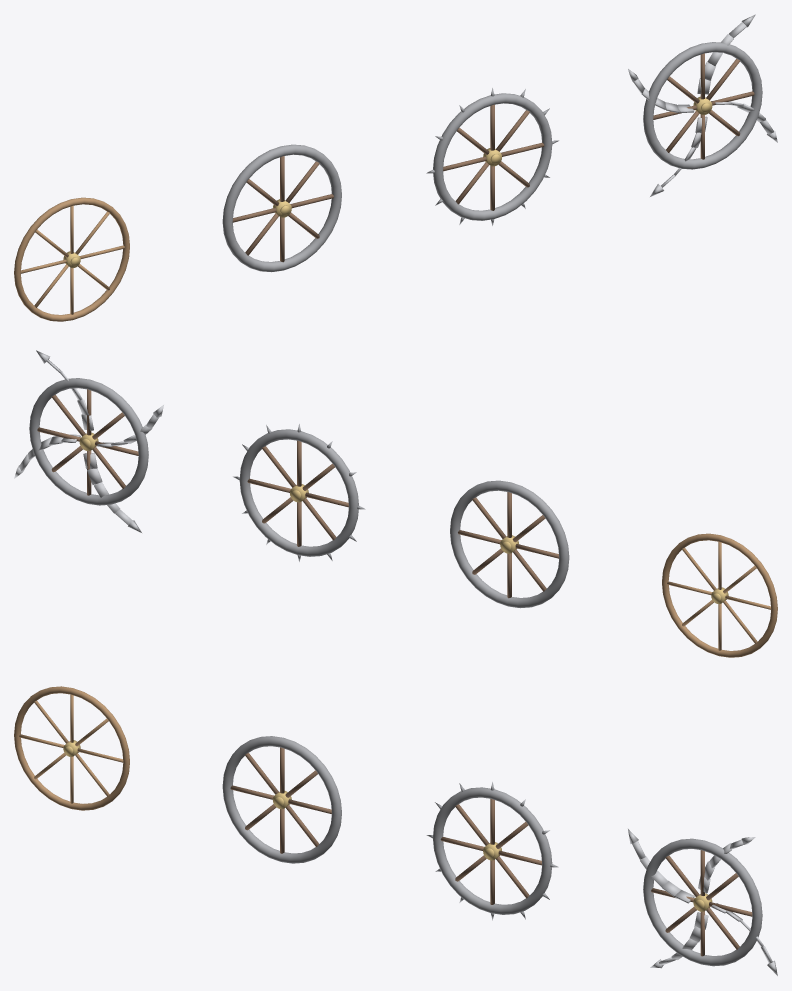
The model's file is _workspace_chariot_model_RomanChariot_WheelKit.glb.
3 renders of one model, top to bottom at view 1: azimuth 30°, elevation 25°; view 2: azimuth 150°, elevation 25°; view 3: azimuth 330°, elevation 25°, orthographic.
Visible parts, largest first — view 1: Wheel_Standard_Wood, Wheel_Spiked_Iron, Wheel_Reinforced_Iron, Wheel_Bladed_Iron, Wheel_Bladed_Steel, Wheel_Reinforced_Leather, Wheel_Spiked_Leather, Wheel_Bladed_Leather; view 2: Wheel_Standard_Wood, Wheel_Spiked_Iron, Wheel_Reinforced_Iron, Wheel_Bladed_Iron, Wheel_Bladed_Steel, Wheel_Reinforced_Leather, Wheel_Spiked_Leather, Wheel_Bladed_Leather; view 3: Wheel_Standard_Wood, Wheel_Spiked_Iron, Wheel_Reinforced_Iron, Wheel_Bladed_Iron, Wheel_Bladed_Steel, Wheel_Spiked_Leather, Wheel_Reinforced_Leather, Wheel_Bladed_Leather.
Boxes of the visible parts, left/top/right/bottom form: Wheel_Standard_Wood: left=14, top=197, right=129, bottom=321; Wheel_Spiked_Iron: left=426, top=88, right=558, bottom=225; Wheel_Reinforced_Iron: left=222, top=144, right=341, bottom=272; Wheel_Bladed_Iron: left=643, top=42, right=762, bottom=169; Wheel_Bladed_Steel: left=628, top=14, right=777, bottom=196; Wheel_Reinforced_Leather: left=232, top=156, right=333, bottom=262; Wheel_Spiked_Leather: left=443, top=104, right=544, bottom=210; Wheel_Bladed_Leather: left=653, top=53, right=754, bottom=159; Wheel_Standard_Wood: left=662, top=533, right=777, bottom=657; Wheel_Spiked_Iron: left=233, top=424, right=365, bottom=561; Wheel_Reinforced_Iron: left=450, top=480, right=569, bottom=608; Wheel_Bladed_Iron: left=29, top=378, right=148, bottom=505; Wheel_Bladed_Steel: left=14, top=350, right=163, bottom=532; Wheel_Reinforced_Leather: left=458, top=492, right=559, bottom=598; Wheel_Spiked_Leather: left=247, top=440, right=348, bottom=546; Wheel_Bladed_Leather: left=37, top=389, right=138, bottom=495; Wheel_Standard_Wood: left=14, top=686, right=129, bottom=810; Wheel_Spiked_Iron: left=426, top=782, right=558, bottom=920; Wheel_Reinforced_Iron: left=222, top=736, right=341, bottom=863; Wheel_Bladed_Iron: left=643, top=838, right=762, bottom=966; Wheel_Bladed_Steel: left=628, top=829, right=777, bottom=975; Wheel_Spiked_Leather: left=440, top=798, right=542, bottom=904; Wheel_Reinforced_Leather: left=230, top=747, right=331, bottom=853; Wheel_Bladed_Leather: left=651, top=850, right=752, bottom=956.
Bounding box in the file's own units: 9.08 × 1.79 × 0.136.
